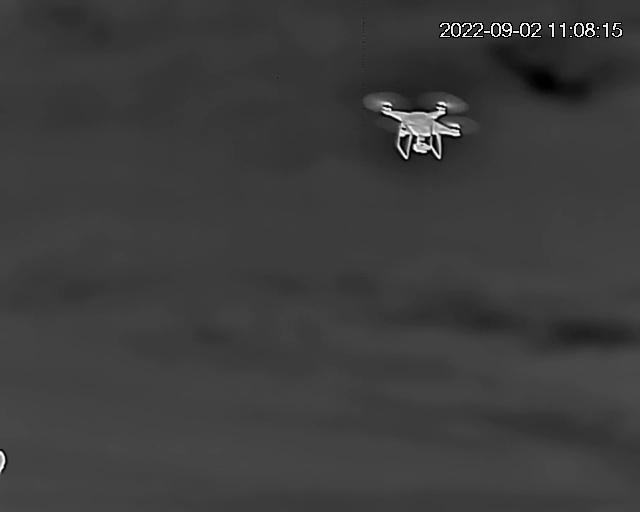DJI-Phantom: (367, 90, 469, 163)
